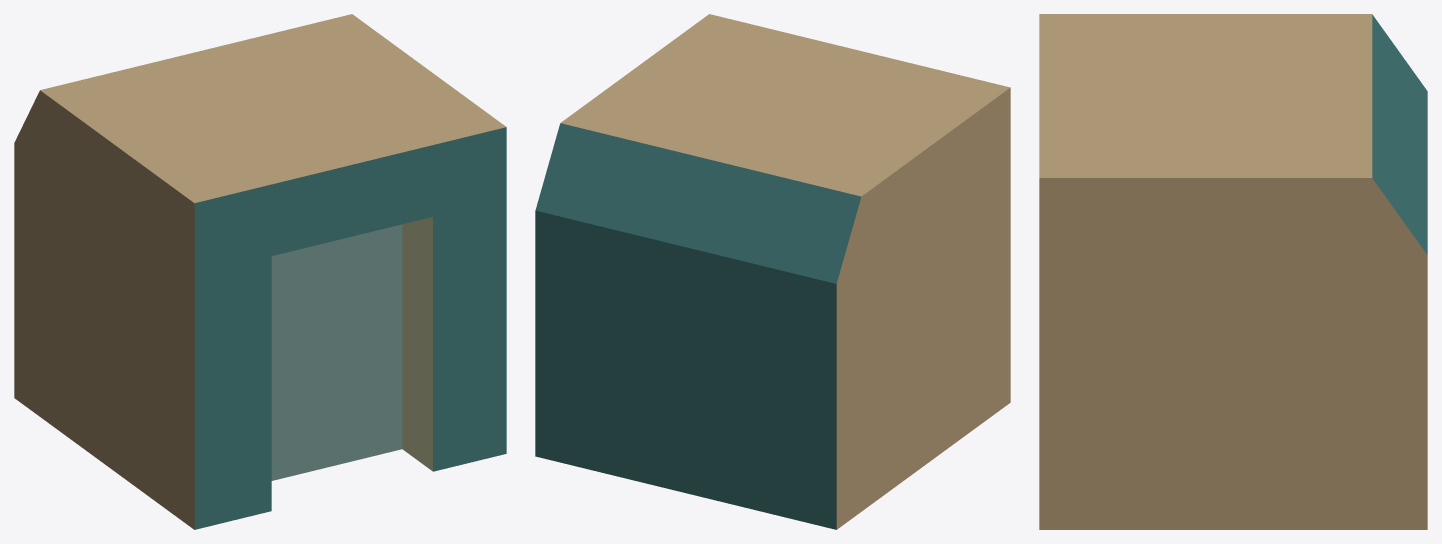
The model's file is AccesoTejado.fbx.
3 views of the same model, side by side, from view 1: azimuth 30°, elevation 25°; view 2: azimuth 150°, elevation 25°; view 3: azimuth 270°, elevation 25° (orthographic). The views are drawn at different scales.
Visible parts, largest first — view 1: Cube.021; view 2: Cube.021; view 3: Cube.021.
Boxes of the visible parts, x1=… form: Cube.021: x1=14, y1=14, x2=506, y2=529; Cube.021: x1=535, y1=14, x2=1010, y2=529; Cube.021: x1=1039, y1=14, x2=1427, y2=529.
Bounding box in the file's own units: 58.48 × 58.48 × 58.48.
